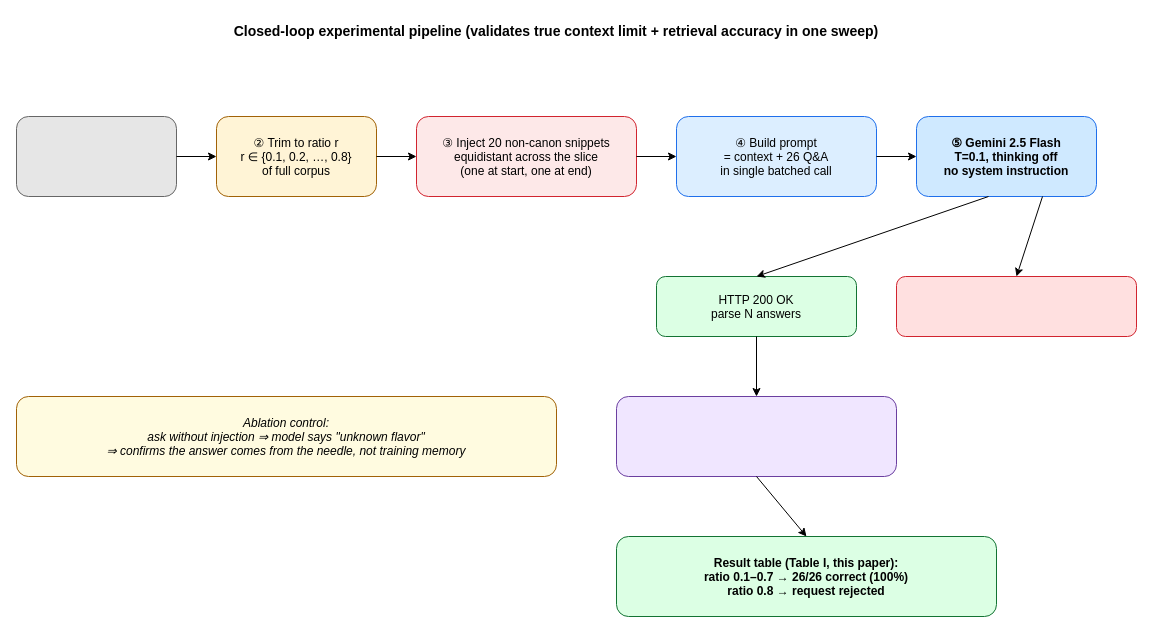
Some shapes in this 1153 by 633 pixel diagram are drawn without their labels. Each missing label, with the centre of its shape:
HTTP 400 "input token count … exceeds 1,048,576" ⇒ true context limit located: point (1016, 306)
① Friends transcript 924k words (>1M tokens): point (96, 156)
⑥ Judge model (fresh Gemini 2.5 Flash) compares to ground truth + manual review: point (756, 436)
